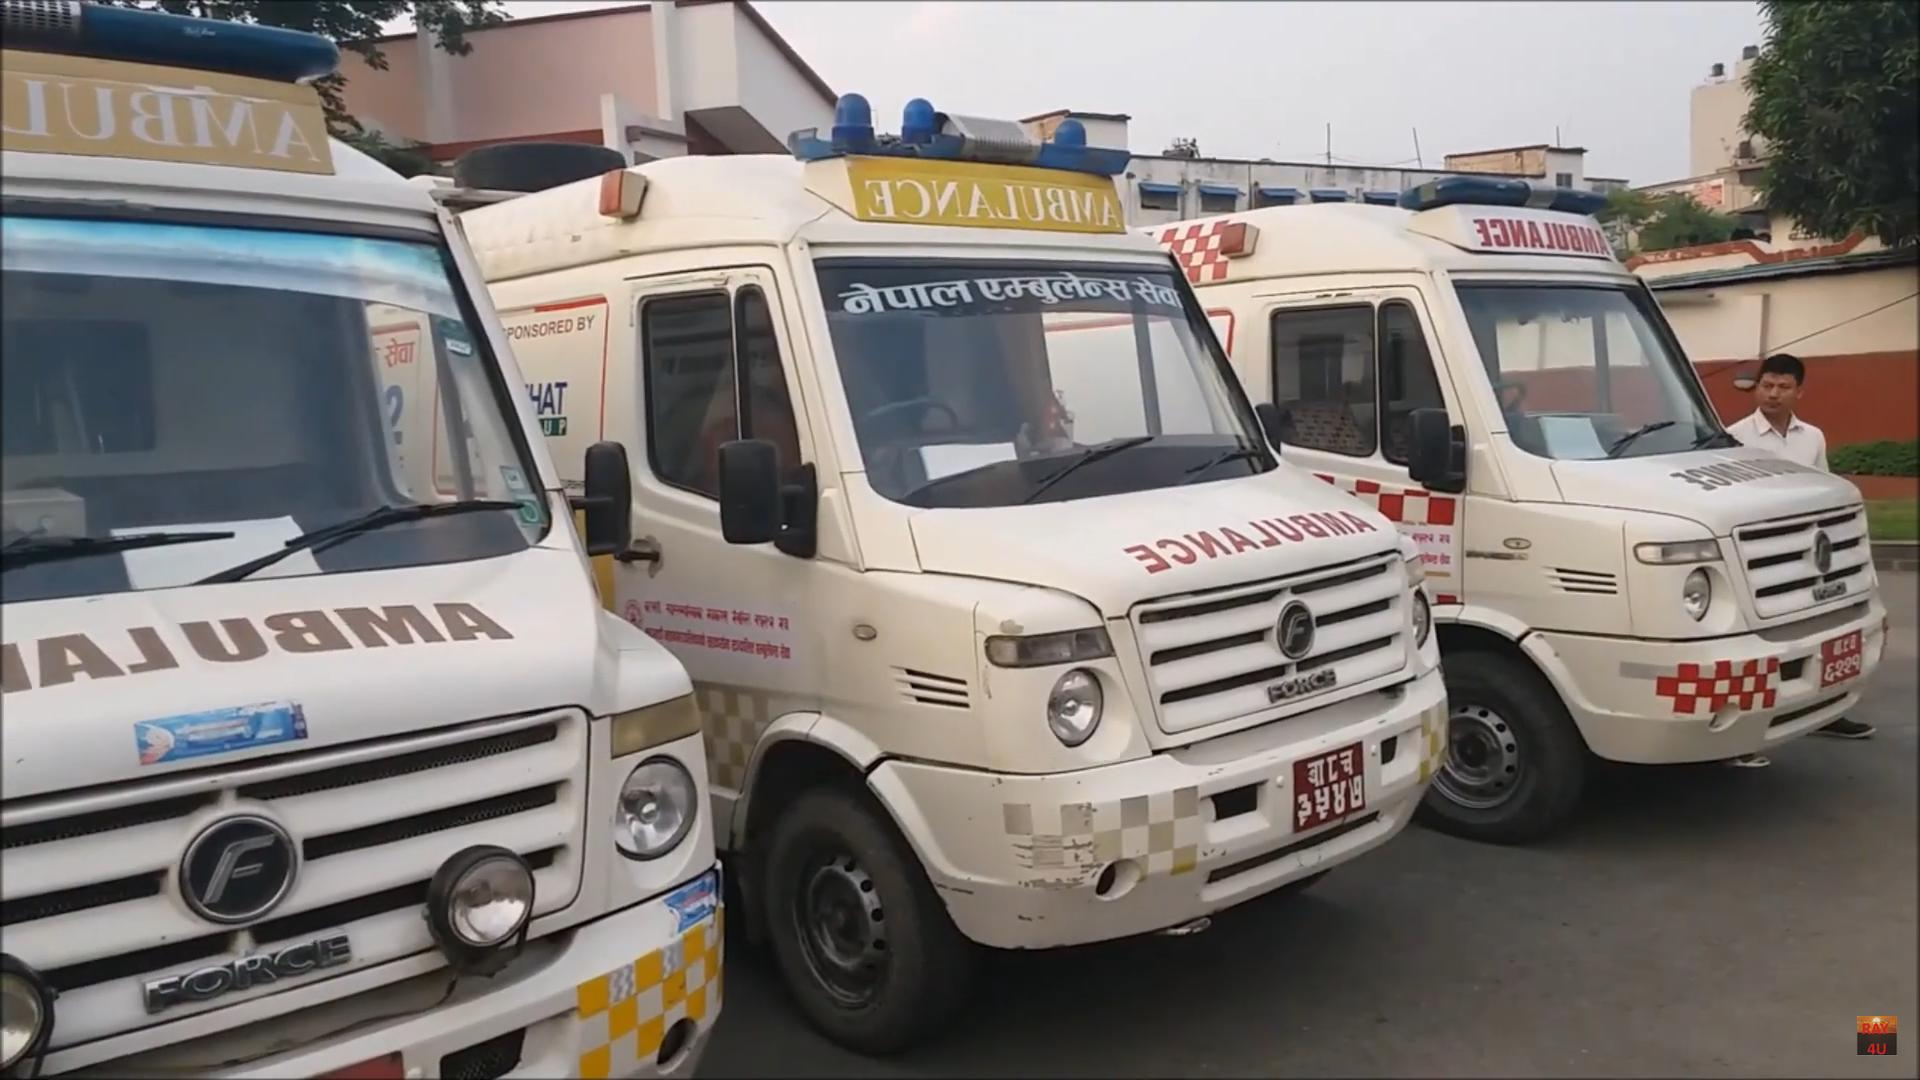ambulance: (423, 95, 1445, 1080), (0, 0, 728, 1080), (1116, 170, 1920, 855)
